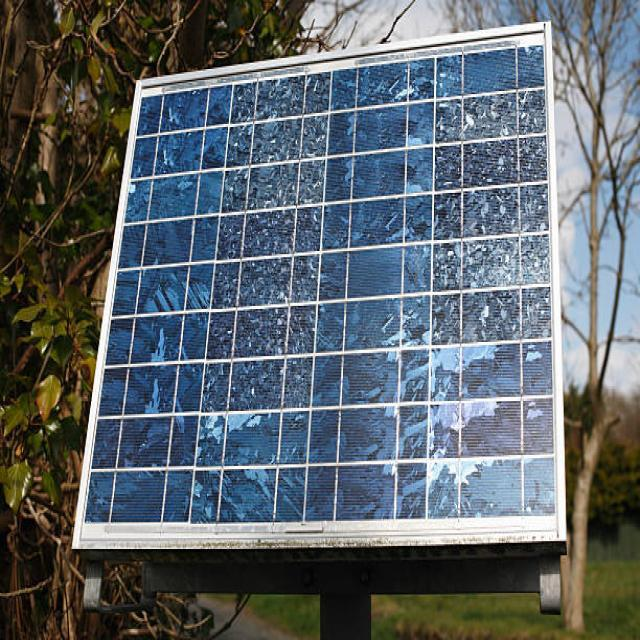no faulty: (77, 27, 565, 545)
